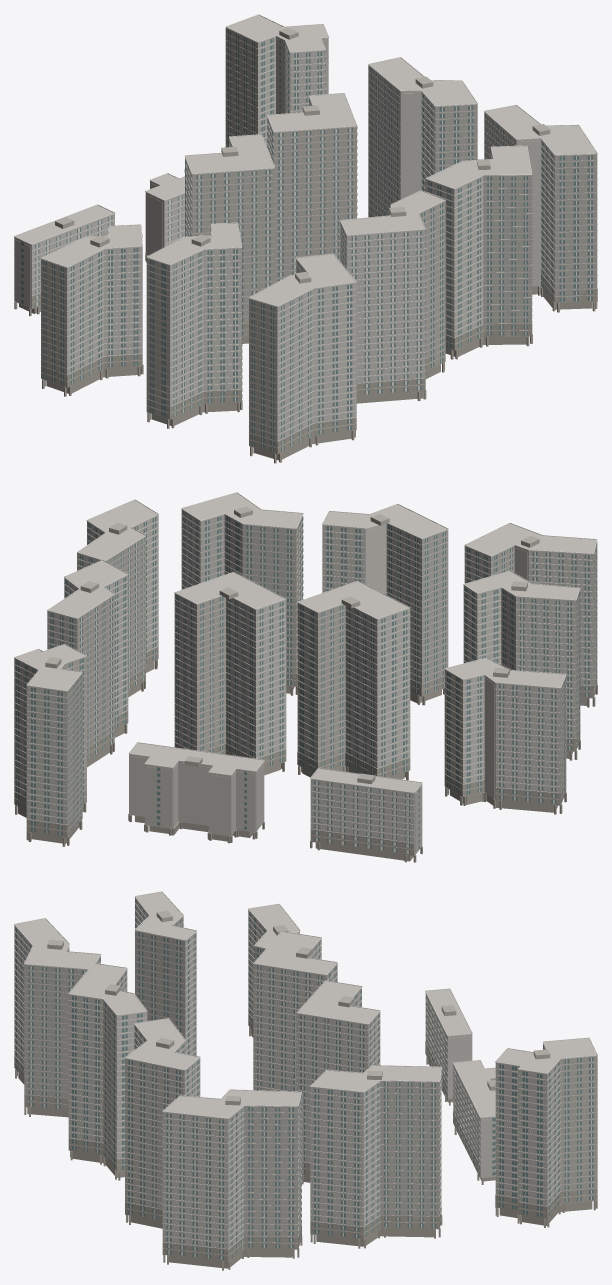
The model's file is representative-a10025823.glb.
3 renders of one model, top to bottom at view 1: azimuth 30°, elevation 25°; view 2: azimuth 150°, elevation 25°; view 3: azimuth 270°, elevation 25°, orthographic. The views are drawn at different scales.
Parts seen in each view (by area): view 1: A10025823_wall001, A10025823_accent001, A10025823_trim001, A10025823_glass001, A10025823_base001, A10025823_roof001; view 2: A10025823_wall001, A10025823_trim001, A10025823_glass001, A10025823_accent001, A10025823_base001, A10025823_roof001; view 3: A10025823_wall001, A10025823_trim001, A10025823_accent001, A10025823_glass001, A10025823_base001, A10025823_roof001.
Boxes of the visible parts, box(x1,y1,x2,y2) form: A10025823_wall001: box(14, 15, 596, 440); A10025823_accent001: box(41, 28, 597, 454); A10025823_trim001: box(14, 14, 597, 451); A10025823_glass001: box(21, 30, 592, 451); A10025823_base001: box(14, 204, 597, 463); A10025823_roof001: box(55, 27, 550, 283); A10025823_wall001: box(14, 493, 596, 855); A10025823_trim001: box(14, 492, 597, 853); A10025823_glass001: box(16, 511, 597, 854); A10025823_accent001: box(26, 514, 597, 831); A10025823_base001: box(14, 646, 597, 862); A10025823_roof001: box(45, 506, 539, 784); A10025823_wall001: box(14, 892, 596, 1248); A10025823_trim001: box(14, 891, 597, 1259); A10025823_accent001: box(14, 916, 597, 1249); A10025823_glass001: box(15, 899, 593, 1260); A10025823_base001: box(14, 1014, 597, 1270); A10025823_roof001: box(47, 910, 550, 1105).
Bounding box in the file's own units: 232 × 77.8 × 237.
